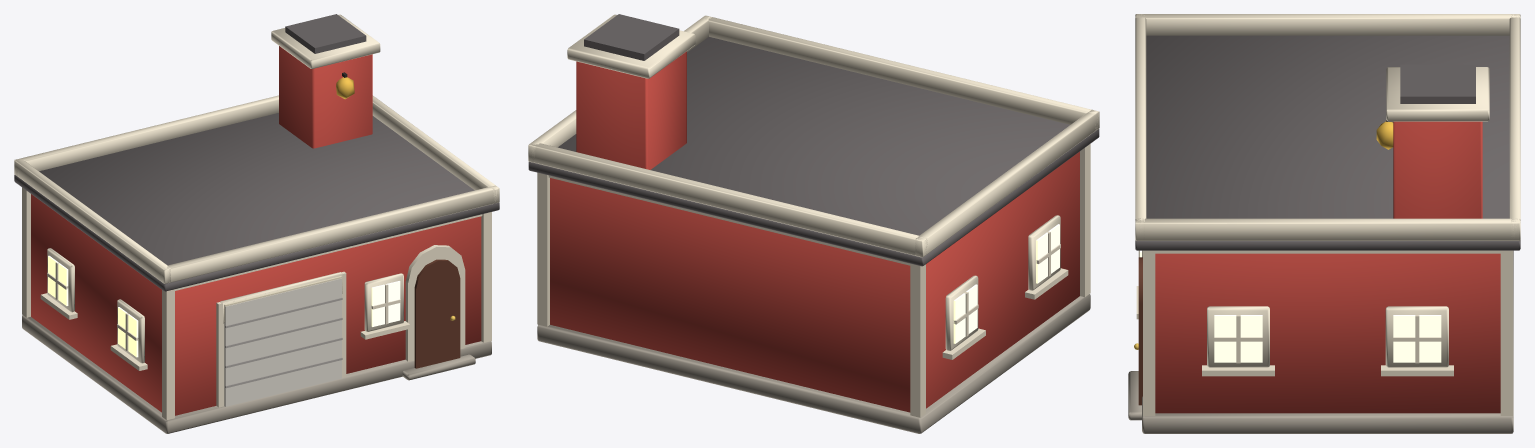
The model's file is v_firestation.glb.
3 renders of one model, left to right at view 1: azimuth 30°, elevation 25°; view 2: azimuth 150°, elevation 25°; view 3: azimuth 270°, elevation 25°, orthographic. The views are drawn at different scales.
Visible parts, largest first — view 1: FireStation; view 2: FireStation; view 3: FireStation.
Boxes of the visible parts, bbox=[...] form: FireStation: bbox=[14, 14, 499, 433]; FireStation: bbox=[528, 14, 1099, 433]; FireStation: bbox=[1128, 14, 1520, 433].
Size of the model in its own units: 7.2 by 5.17 by 5.7.
